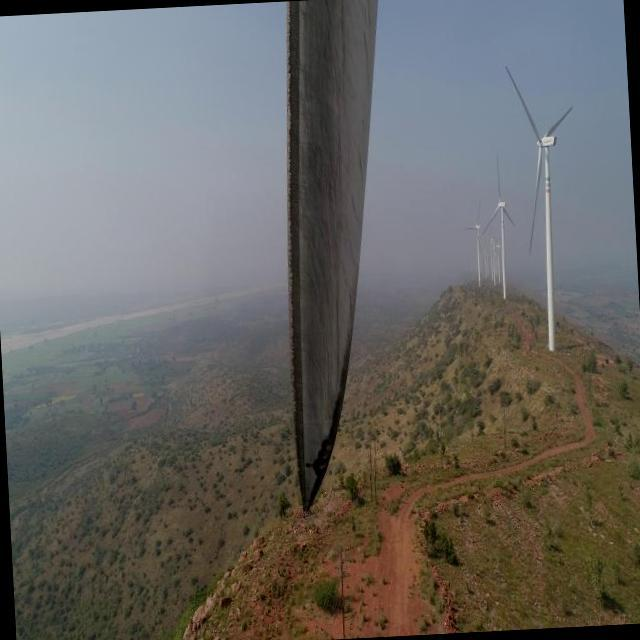Dirt: (286, 0, 377, 511)
Oil LEAKAGE: (305, 334, 357, 506)
